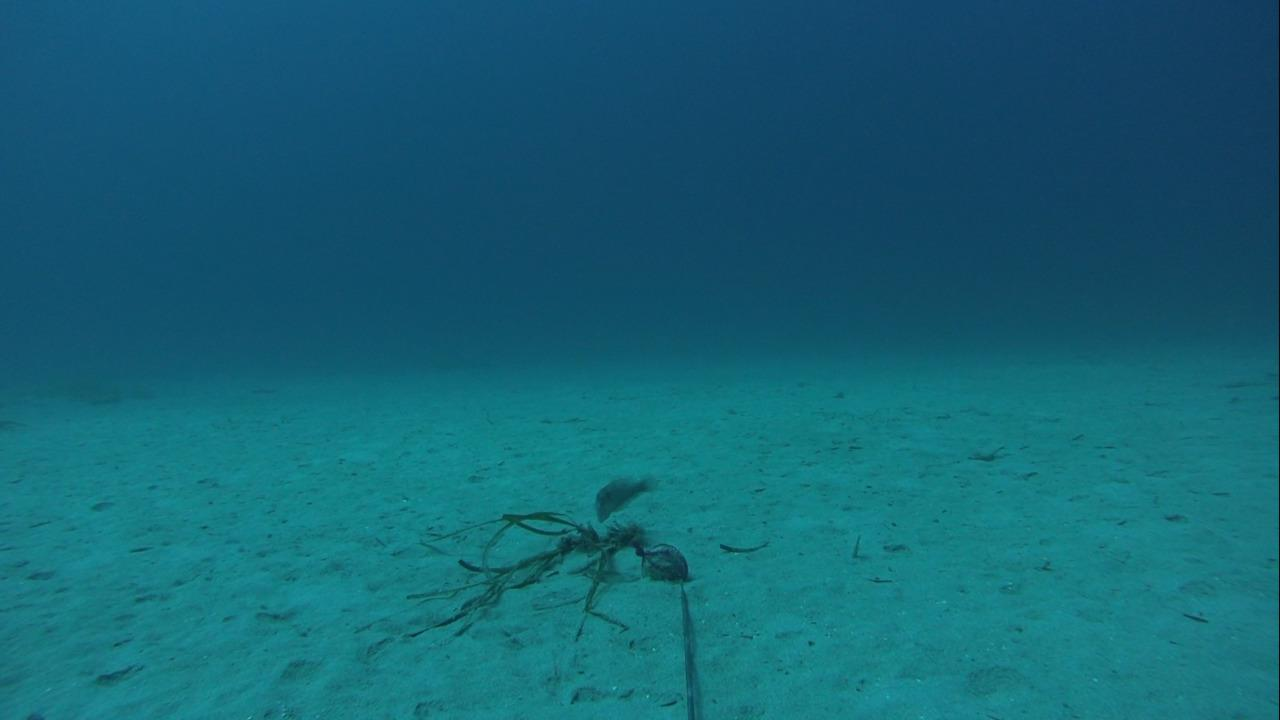raor: (589, 464, 658, 523)
